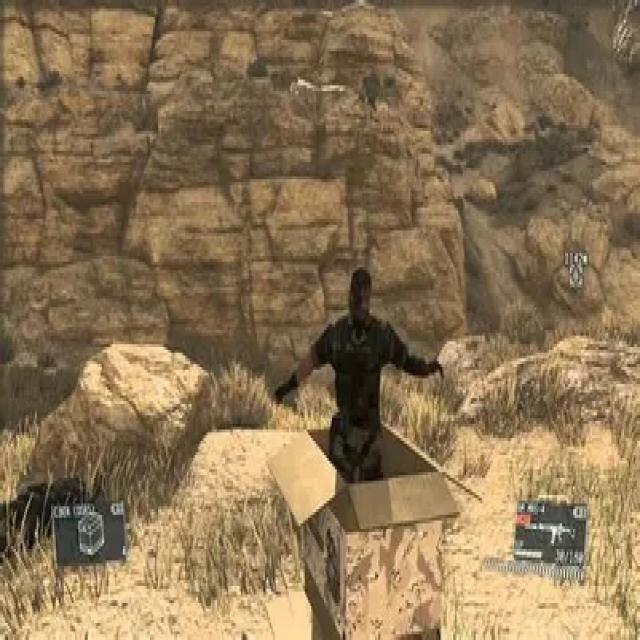snake-in-cardboard-boxes: (264, 414, 483, 638)
